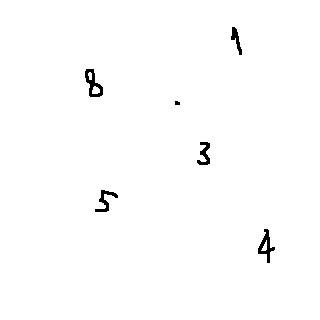.: (170, 93, 187, 107)
1: (225, 23, 247, 60)
3: (193, 135, 221, 170)
4: (257, 227, 286, 266)
5: (82, 176, 136, 227)
8: (81, 63, 110, 104)
